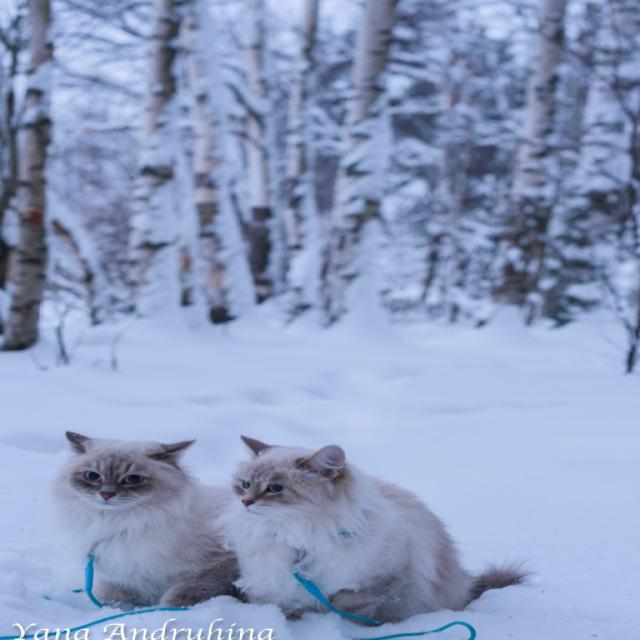Neva Masquerade: (214, 431, 532, 623), (44, 425, 239, 613)
